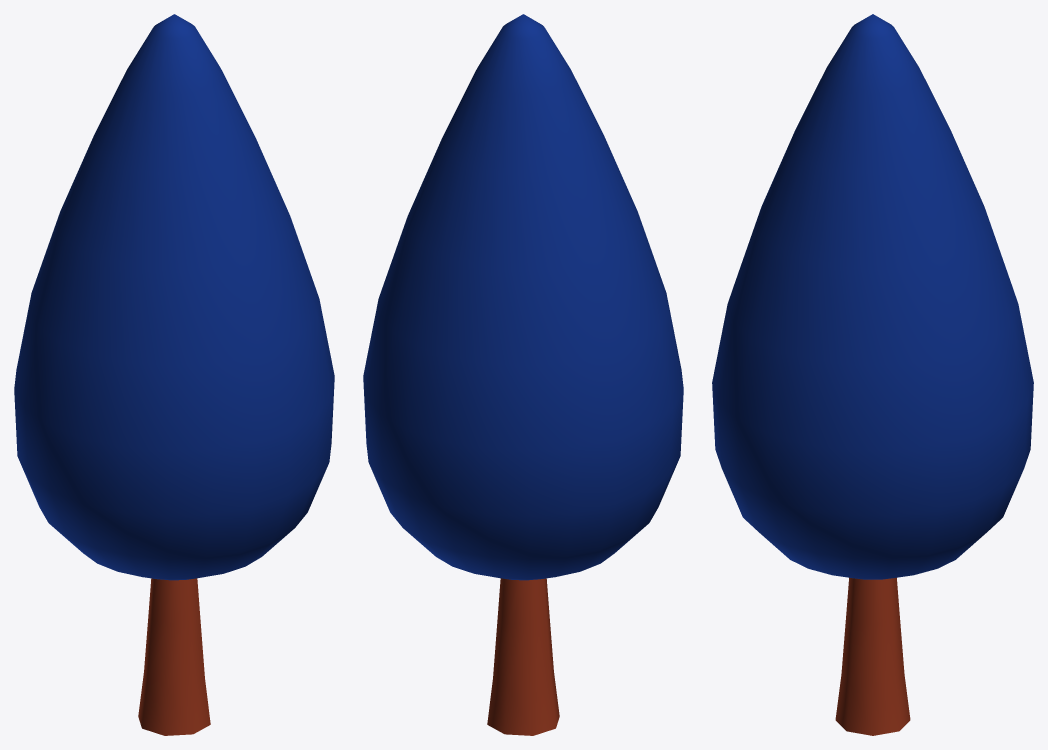
Rendered from Tree_03.FBX.
3 renders of one model, left to right at view 1: azimuth 30°, elevation 25°; view 2: azimuth 150°, elevation 25°; view 3: azimuth 270°, elevation 25°, orthographic.
Parts seen in each view (by area): view 1: Line003; view 2: Line003; view 3: Line003.
Part boxes in pixels (box(x1,y1,x2,y2)): Line003: box(14, 14, 334, 735); Line003: box(363, 14, 683, 735); Line003: box(712, 14, 1033, 735).
Size of the model in its own units: 411 by 1006 by 416.
